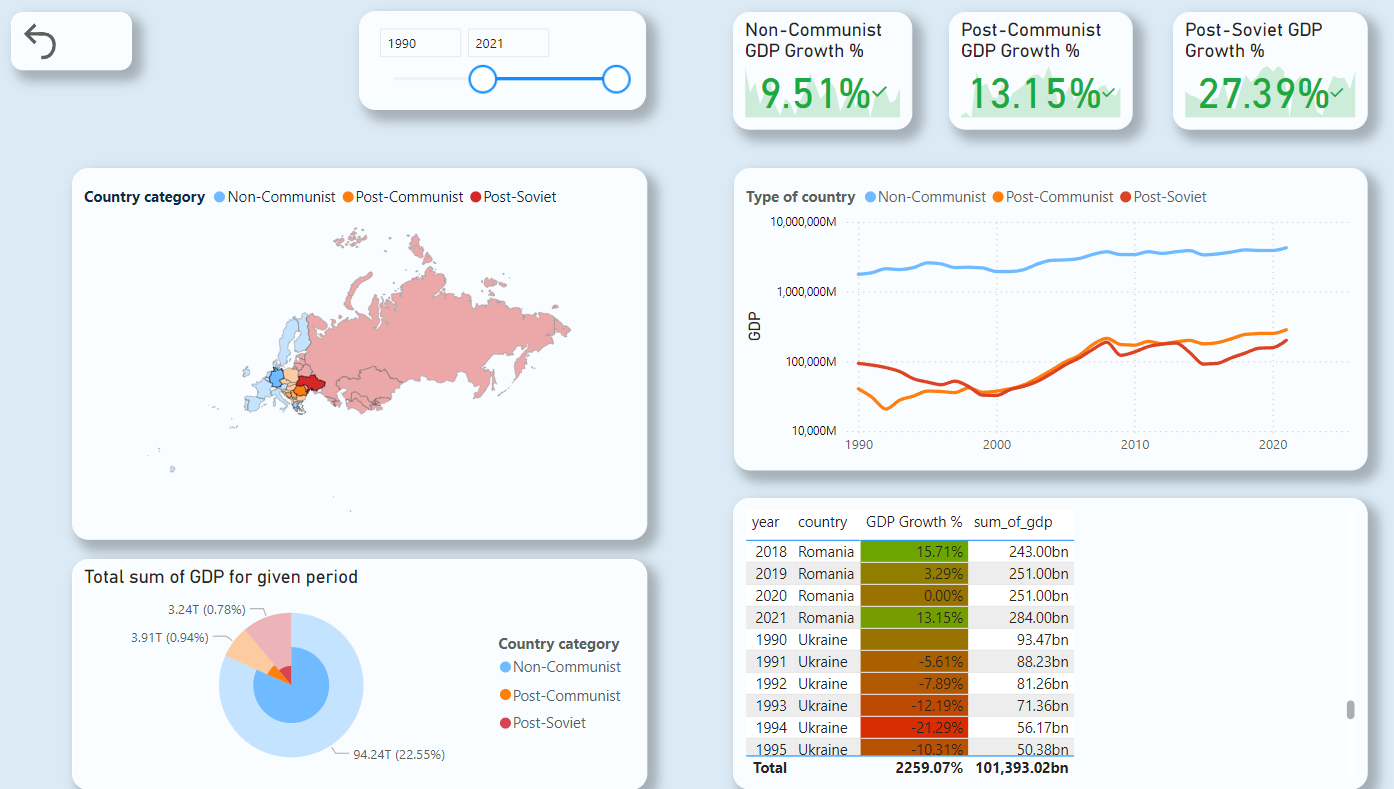

The page's visual inventory and layout, read from the dashboard file:
{"tool":"powerbi","page":{"name":"Insight(GDP)","canvas":[1280,720],"ordinal":0},"visuals":[{"type":"lineChart","fields":{"Series":["public countryindexes (2).country_category"],"Y":["public countryindexes (2).sum_of_gdp"],"Category":["public countryindexes (2).year"]},"box":[669,154.2,576.6,276],"z":0},{"type":"slicer","fields":{"Values":["public countryindexes (2).year"]},"box":[329.1,11.8,261.3,90.4],"z":1000},{"type":"shapeMap","title":"Country","fields":{"Category":["public countryindexes (2).country"],"Series":["public countryindexes (2).country_category"],"Value":["CountNonNull(public countryindexes (2).country_category)"]},"box":[67.8,154.2,522.6,337.9],"z":2000},{"type":"kpi","title":" Non-Communist GDP Growth % ","fields":{"Indicator":["public countryindexes (2).GDP Growth %"],"TrendLine":["public countryindexes (2).year"],"Goal":["public countryindexes (2).target"]},"box":[669,12.8,163.1,107.1],"z":4000},{"type":"kpi","title":"Post-Communist GDP Growth % ","fields":{"Indicator":["public countryindexes (2).GDP Growth %"],"TrendLine":["public countryindexes (2).year"],"Goal":["public countryindexes (2).target"]},"box":[865.4,12.8,167,107.1],"z":5000},{"type":"kpi","title":"Post-Soviet GDP Growth % ","fields":{"Indicator":["public countryindexes (2).GDP Growth %"],"TrendLine":["public countryindexes (2).year"],"Goal":["public countryindexes (2).target"]},"box":[1068.8,12.8,176.8,107.1],"z":6000},{"type":"actionButton","box":[12.8,12.8,110,53],"z":6001},{"type":"tableEx","fields":{"Values":["public countryindexes (2).year","public countryindexes (2).country","public countryindexes (2).GDP Growth %","public countryindexes (2).sum_of_gdp"]},"box":[669,454.8,576.6,265.2],"z":6002},{"type":"pieChart","title":"Total sum of GDP for given period","fields":{"Y":["public countryindexes (2).sum_of_gdp"],"Category":["public countryindexes (2).country_category"]},"box":[67.8,509.8,522.6,210.2],"z":6003}]}

Visuals, with their boxes in screenshot pixels (x1, y1, x2, y2), scaled from the page's 1280x720 canvas onto the 1394x789 screenshot:
lineChart - public countryindexes (2).country_category x public countryindexes (2).sum_of_gdp: box=[729, 169, 1357, 471]
slicer - public countryindexes (2).year: box=[358, 13, 643, 112]
"Country" shapeMap: box=[74, 169, 643, 539]
" Non-Communist GDP Growth % " kpi: box=[729, 14, 906, 131]
"Post-Communist GDP Growth % " kpi: box=[942, 14, 1124, 131]
"Post-Soviet GDP Growth % " kpi: box=[1164, 14, 1357, 131]
actionButton: box=[14, 14, 134, 72]
tableEx - public countryindexes (2).year x public countryindexes (2).country: box=[729, 498, 1357, 788]
"Total sum of GDP for given period" pieChart: box=[74, 559, 643, 788]
